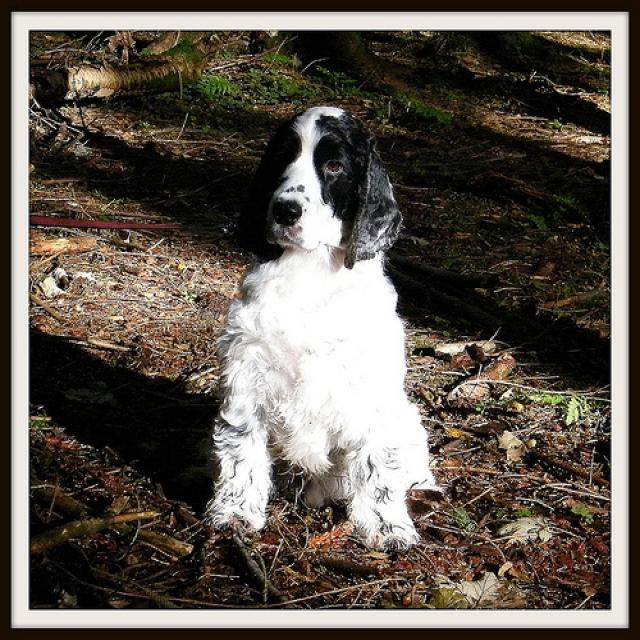dog-english_cocker_spaniel: (198, 97, 443, 561)
